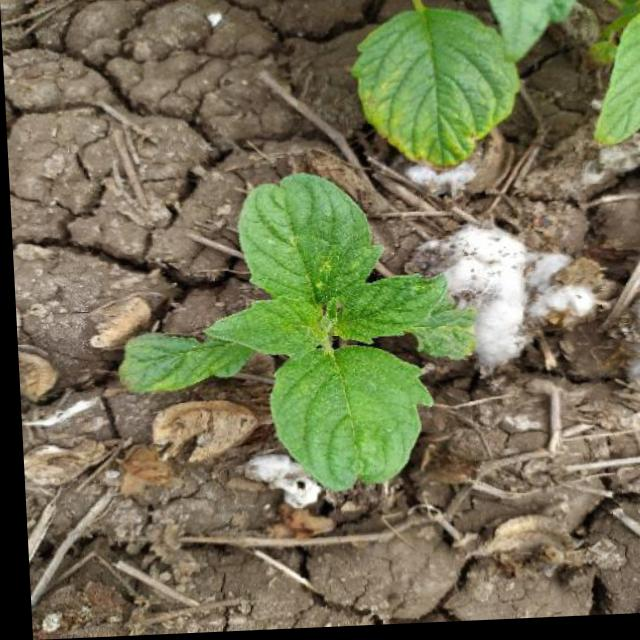crop: (99, 177, 491, 503)
